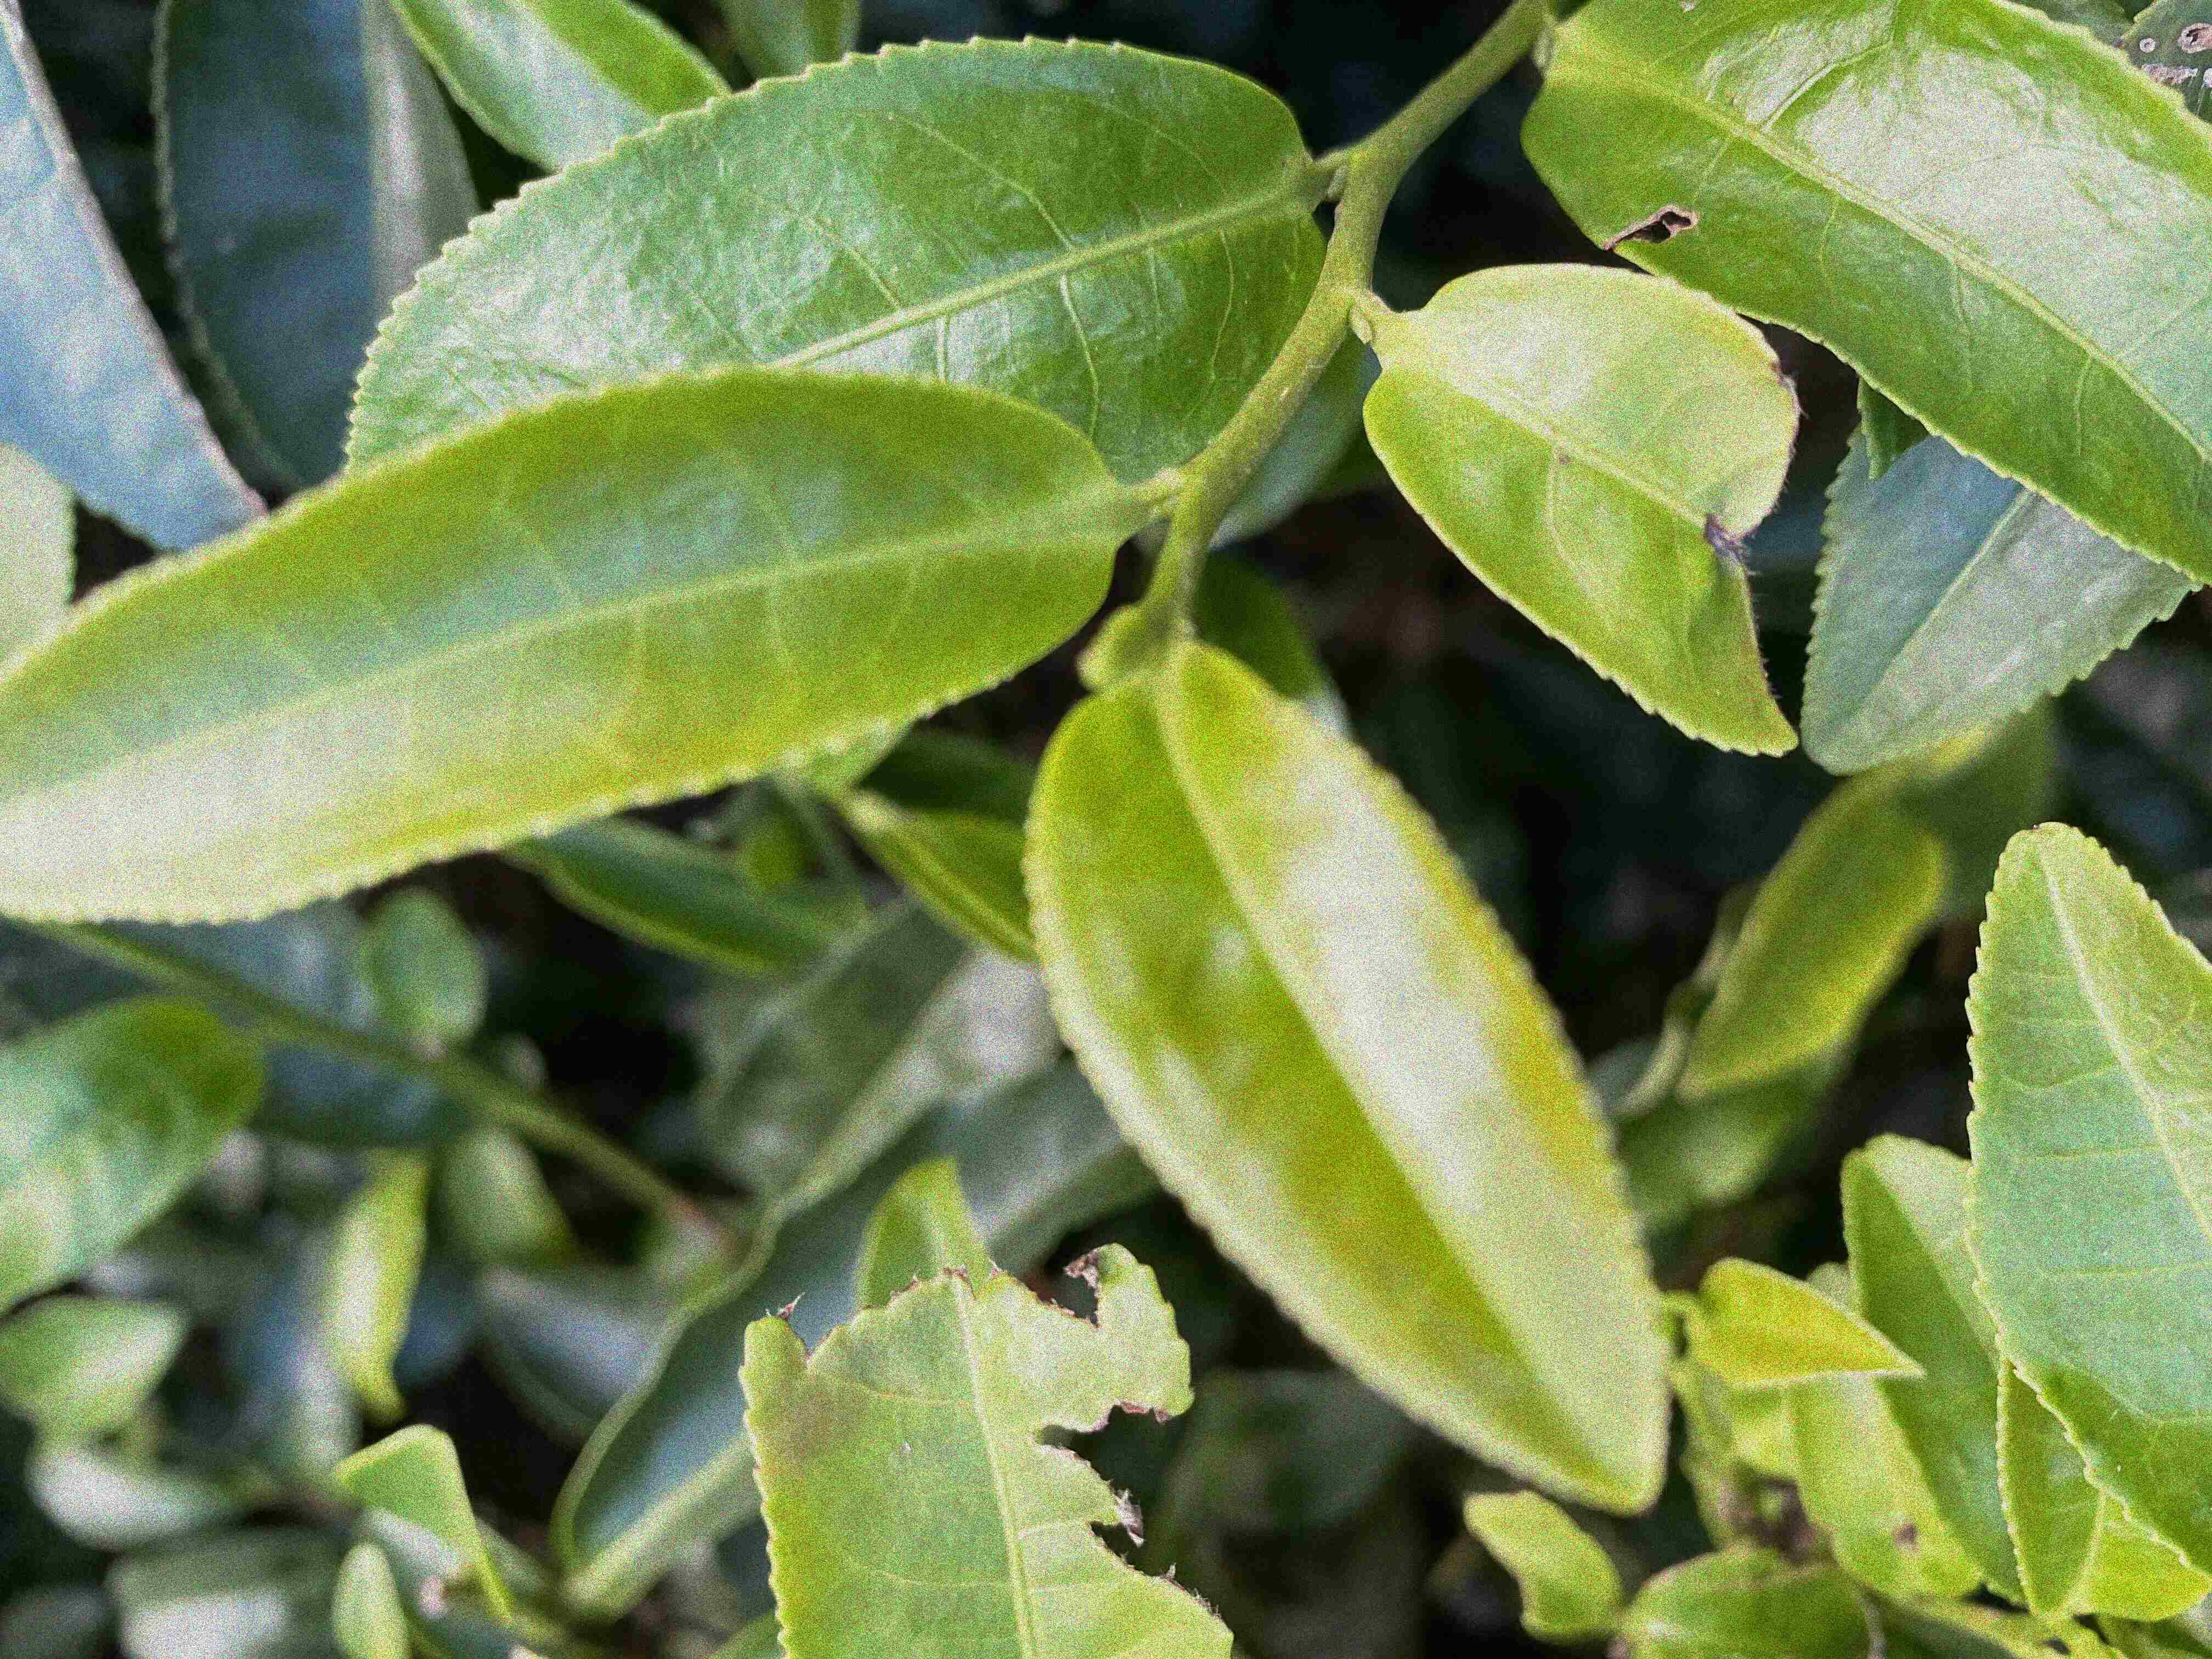chihuo_high: (732, 1237, 1247, 1657), (1362, 268, 1801, 760)
chihuo_low: (1519, 7, 2212, 582)
healthy: (0, 364, 1113, 932), (1024, 633, 1677, 1520)
